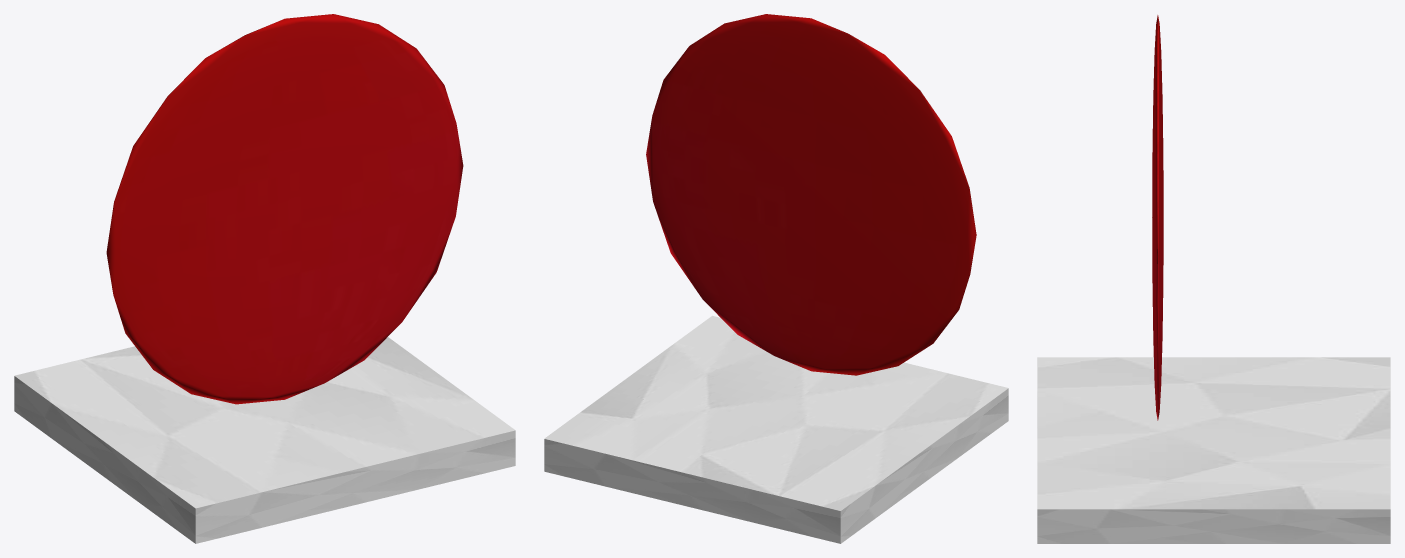
File: CIRCULO.DAE
3 views of the same model, side by side, from view 1: azimuth 30°, elevation 25°; view 2: azimuth 150°, elevation 25°; view 3: azimuth 270°, elevation 25° (orthographic). The views are drawn at different scales.
Parts seen in each view (by area): view 1: GeoSphere001, Box001; view 2: GeoSphere001, Box001; view 3: Box001, GeoSphere001.
Boxes of the visible parts, <box> form: GeoSphere001: <box>106,14,463,404</box>; Box001: <box>14,337,515,543</box>; GeoSphere001: <box>646,14,976,375</box>; Box001: <box>544,315,1008,543</box>; Box001: <box>1037,357,1390,543</box>; GeoSphere001: <box>1152,15,1163,420</box>.
Bounding box in the file's own units: 155 × 137 × 184.
2 materials, 2 textured.
